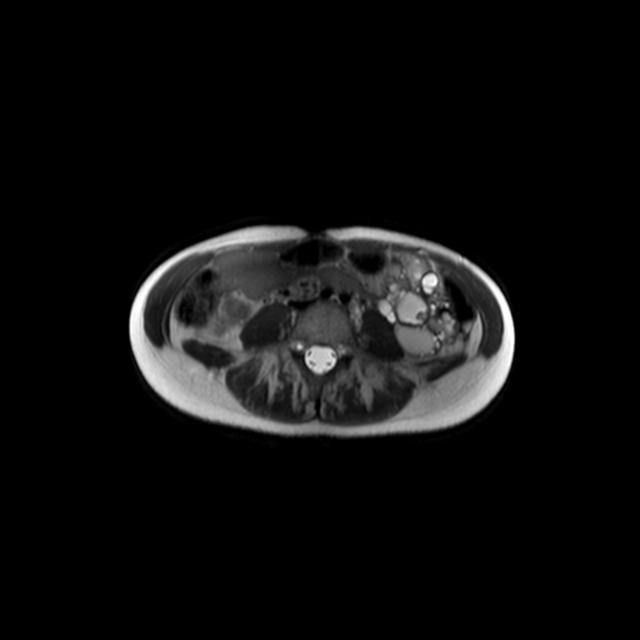sag: (211, 293, 252, 336)
sol: (373, 252, 460, 359)
